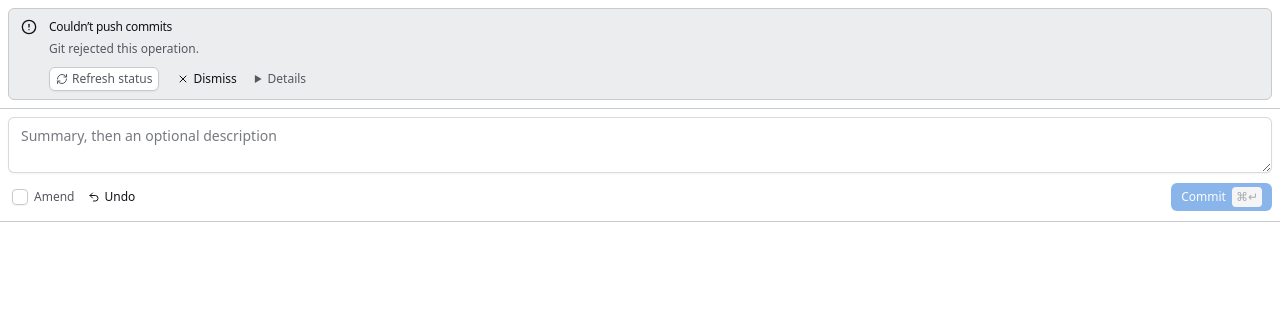
it: a push error has its own label and diagnostics and refresh clears it after an external push
Expected: the text "Couldn’t push commits" is shown, x1=49 y1=18 x2=172 y2=35
What coordinates should you click on to do the following:
click the button "Refresh status"
I would click on:
 (104, 78)
Its box is x1=49 y1=66 x2=159 y2=90.
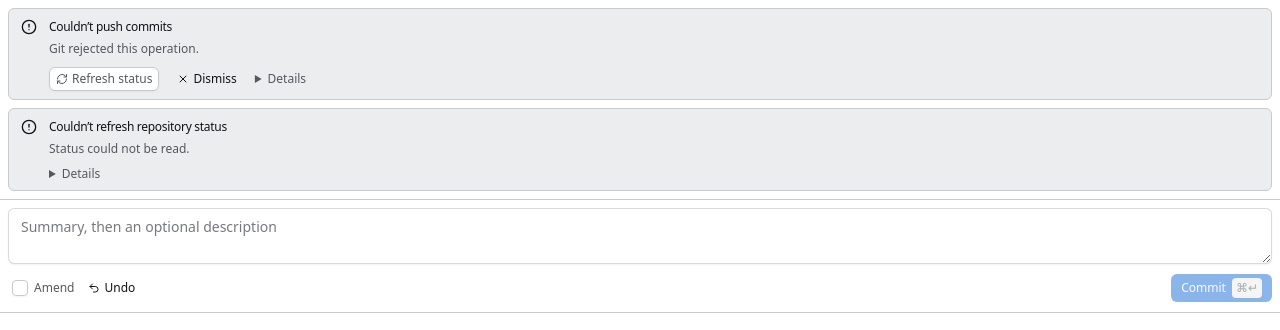
Expected: the text "Couldn’t push commits" is shown, x1=49 y1=18 x2=172 y2=35
Expected: the text "Status could not be read." is shown, x1=49 y1=138 x2=190 y2=158
What coordinates should you click on to do the following:
click the button "Refresh status"
I would click on:
 (104, 78)
Its box is x1=49 y1=66 x2=159 y2=90.
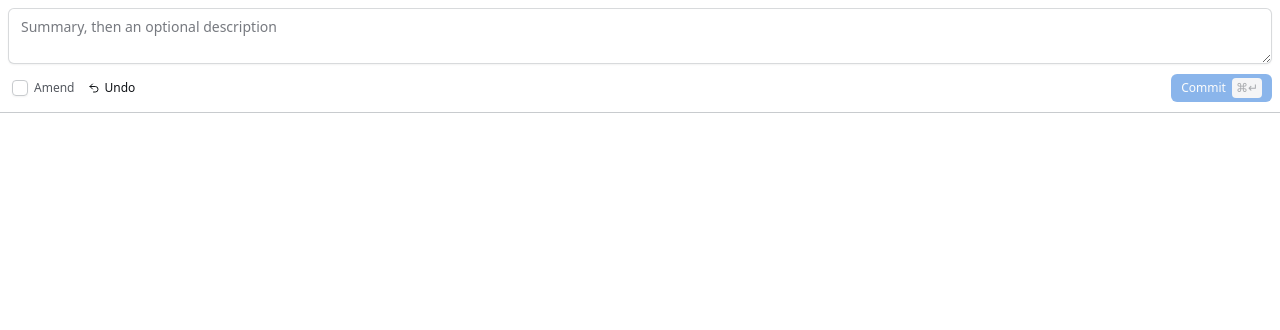
Expected: the text "Couldn’t push commits" is gone
